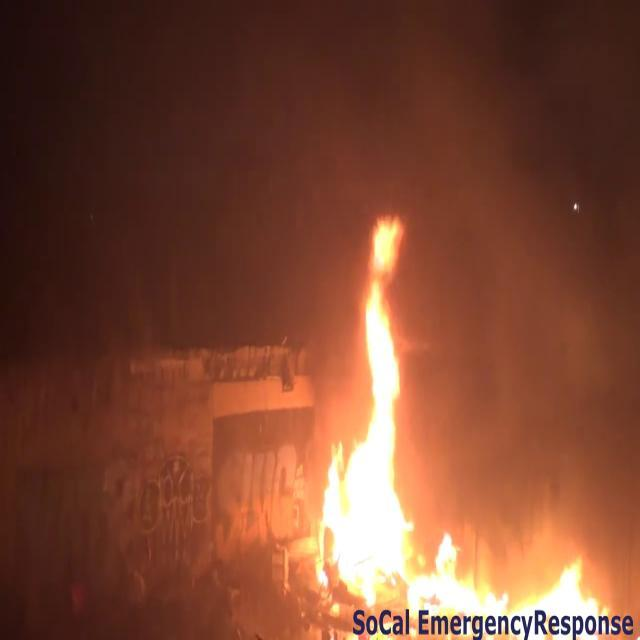Fire: (316, 214, 418, 596), (406, 524, 518, 624)
Smoke: (385, 1, 640, 508)
